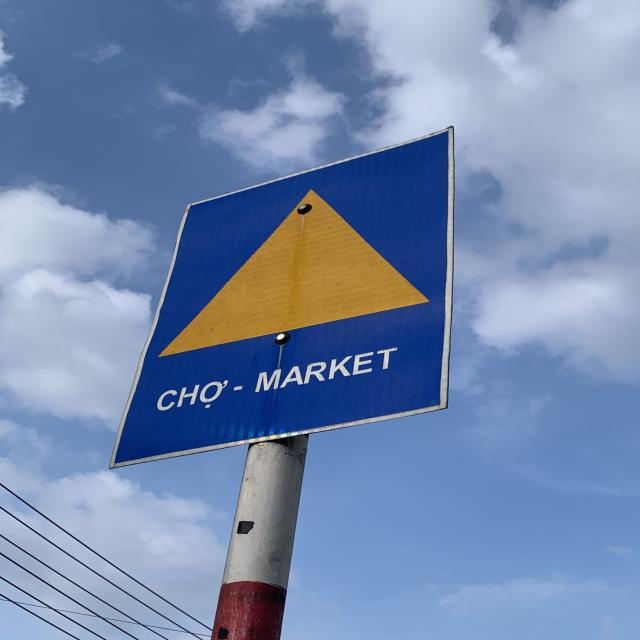Cho_Quay_Xe: (113, 131, 450, 462)
